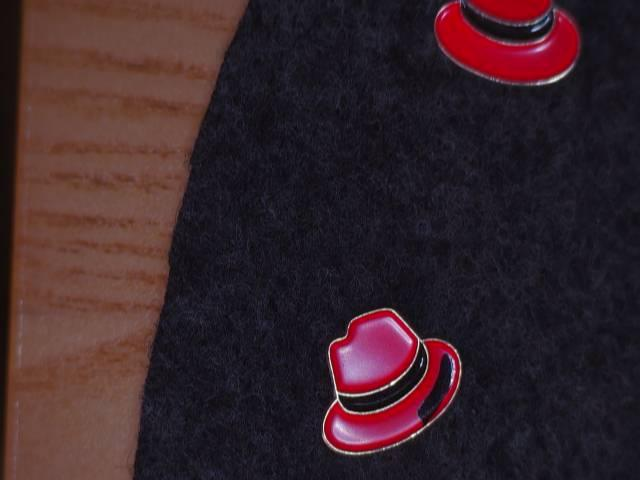Red-Hat: (286, 291, 512, 466), (422, 0, 601, 101)
Scratch: (407, 335, 466, 431)
